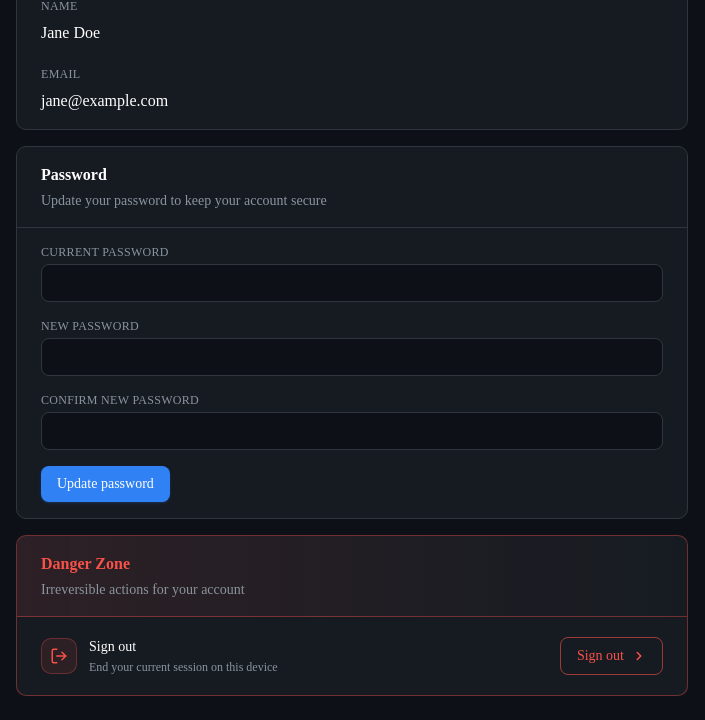
Test: SettingsPage › shows confirmation when sign out button is clicked
(page scrolled)
Click the button "Sign out".
click(611, 656)  # box [560, 637, 663, 675]
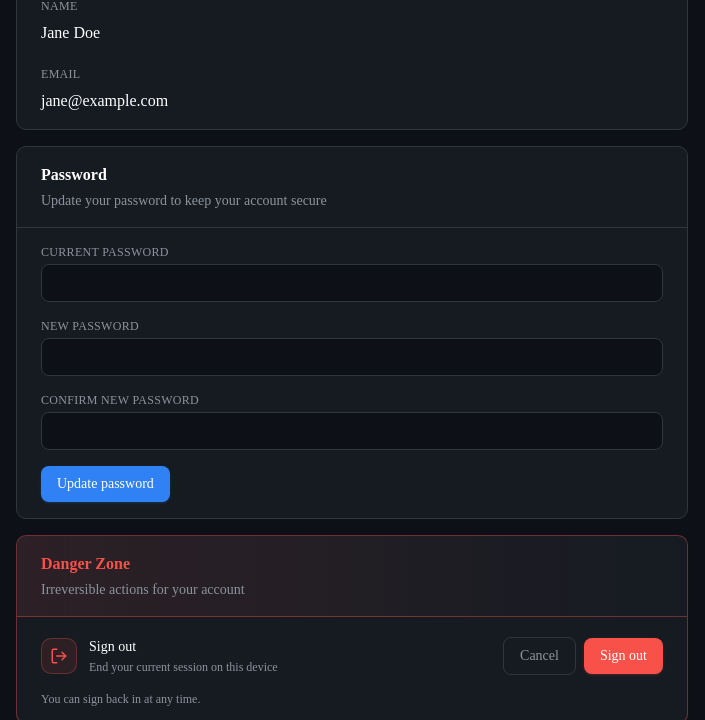
Check: the button "Sign out" is shown, box [584, 638, 663, 674]
Check: the text "You can sign back in at any time." is shown, box [41, 692, 200, 706]
Check: the button "Cancel" is shown, box [503, 637, 576, 675]
